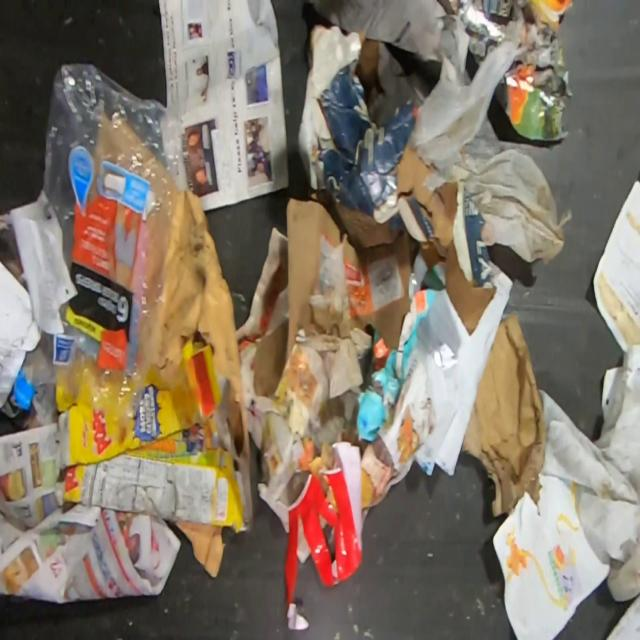cardboard: (249, 23, 496, 397), (55, 338, 248, 577), (354, 38, 430, 126)
rigid_plastic: (284, 441, 364, 608)
soft_plastic: (22, 63, 190, 428), (410, 19, 524, 169), (464, 148, 572, 265)
